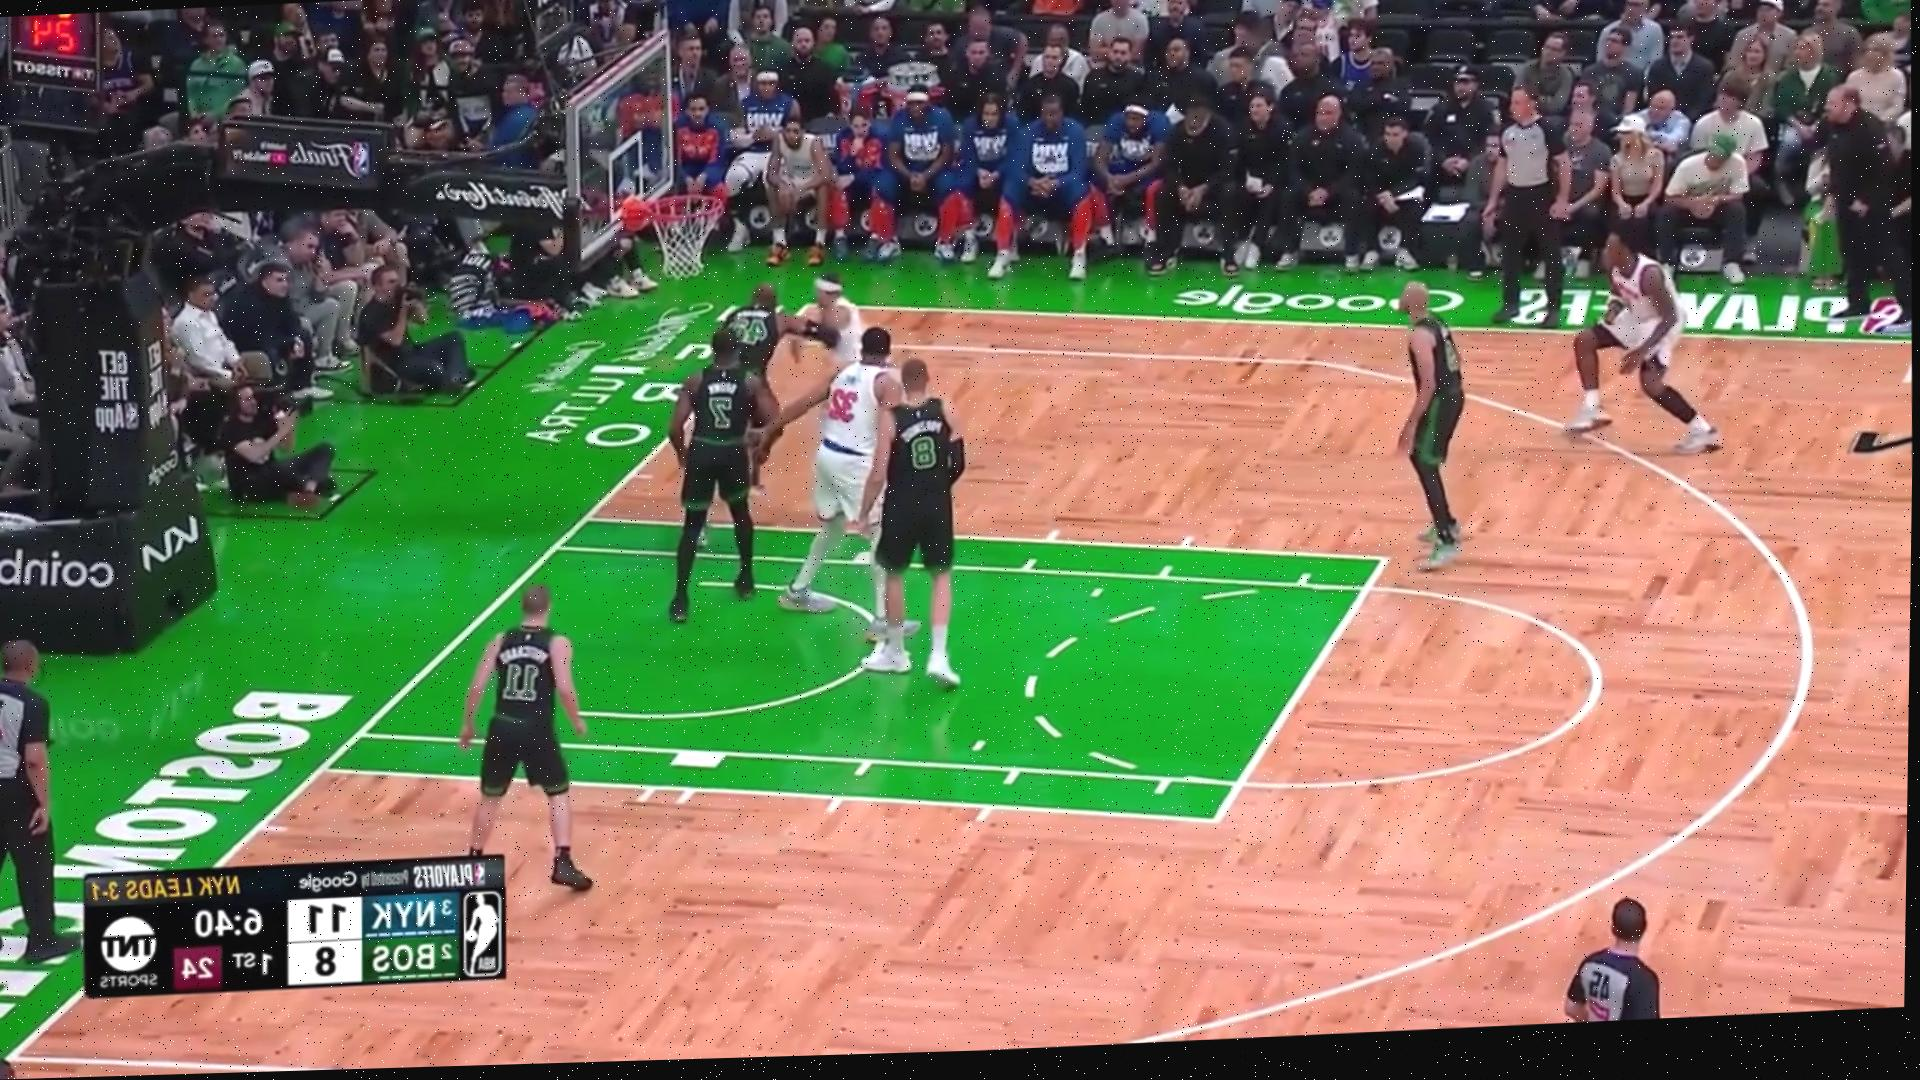no_foul: (704, 244, 878, 451)
